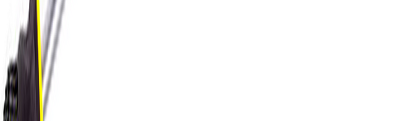screwdriver: (11, 1, 61, 121)
